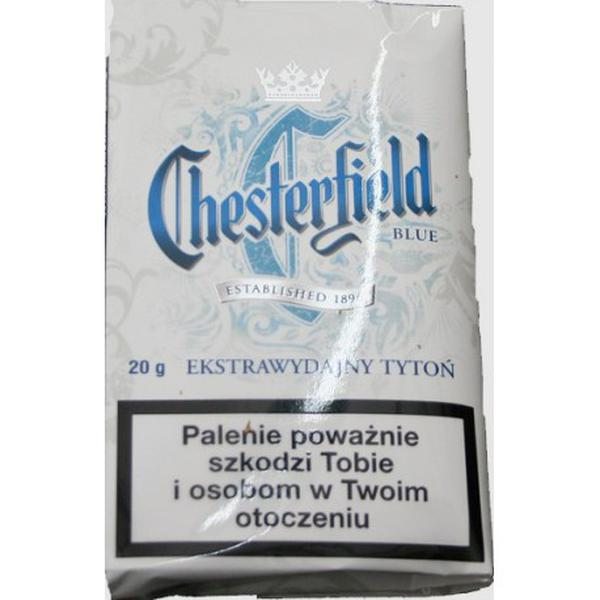chesterfield_blue: (107, 1, 487, 572)
